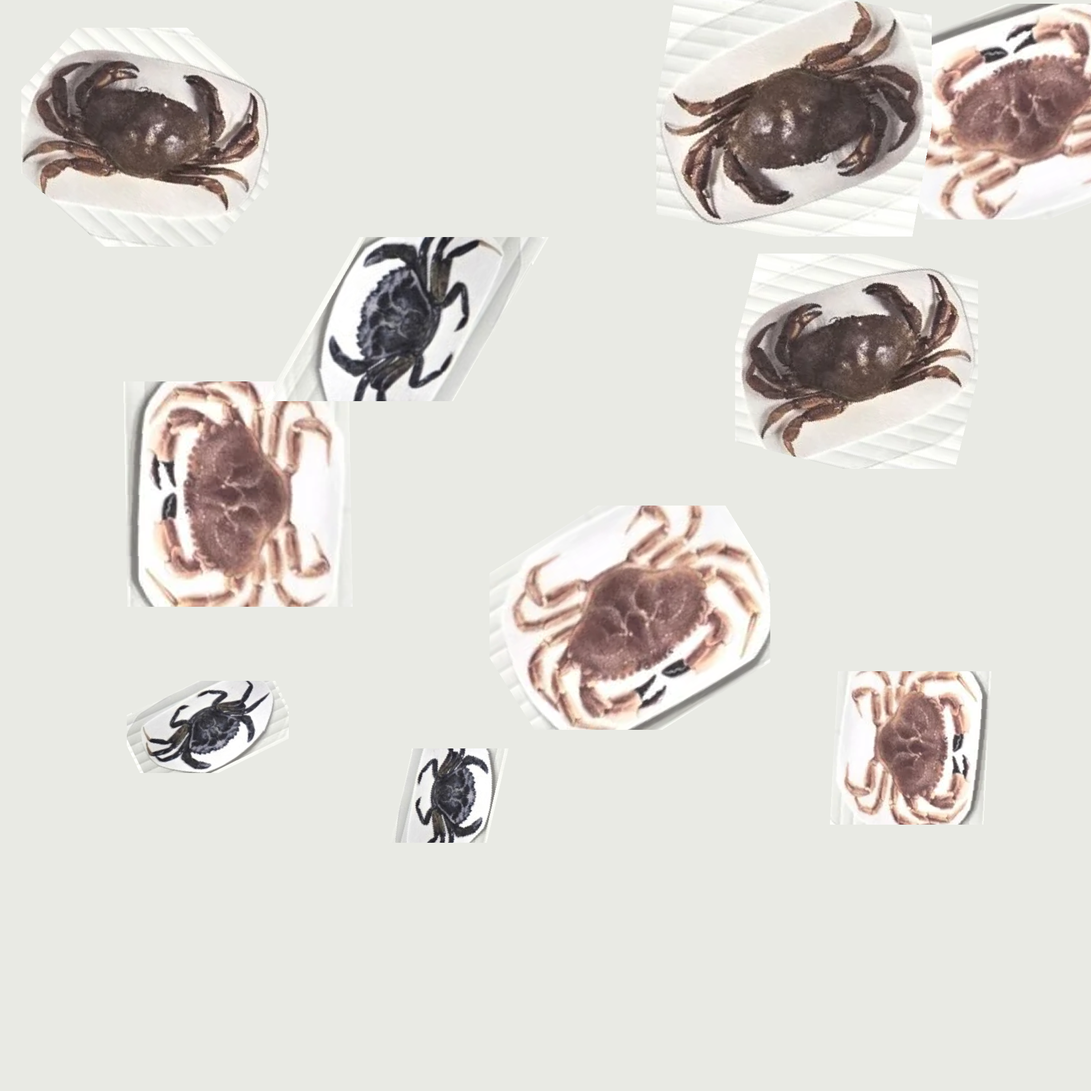evil: (294, 222, 505, 395), (132, 684, 306, 780), (393, 743, 516, 841)
normal: (673, 0, 948, 227), (151, 373, 367, 662), (31, 25, 278, 222), (496, 519, 746, 710), (746, 261, 968, 446), (920, 3, 1085, 213), (819, 668, 987, 819)
